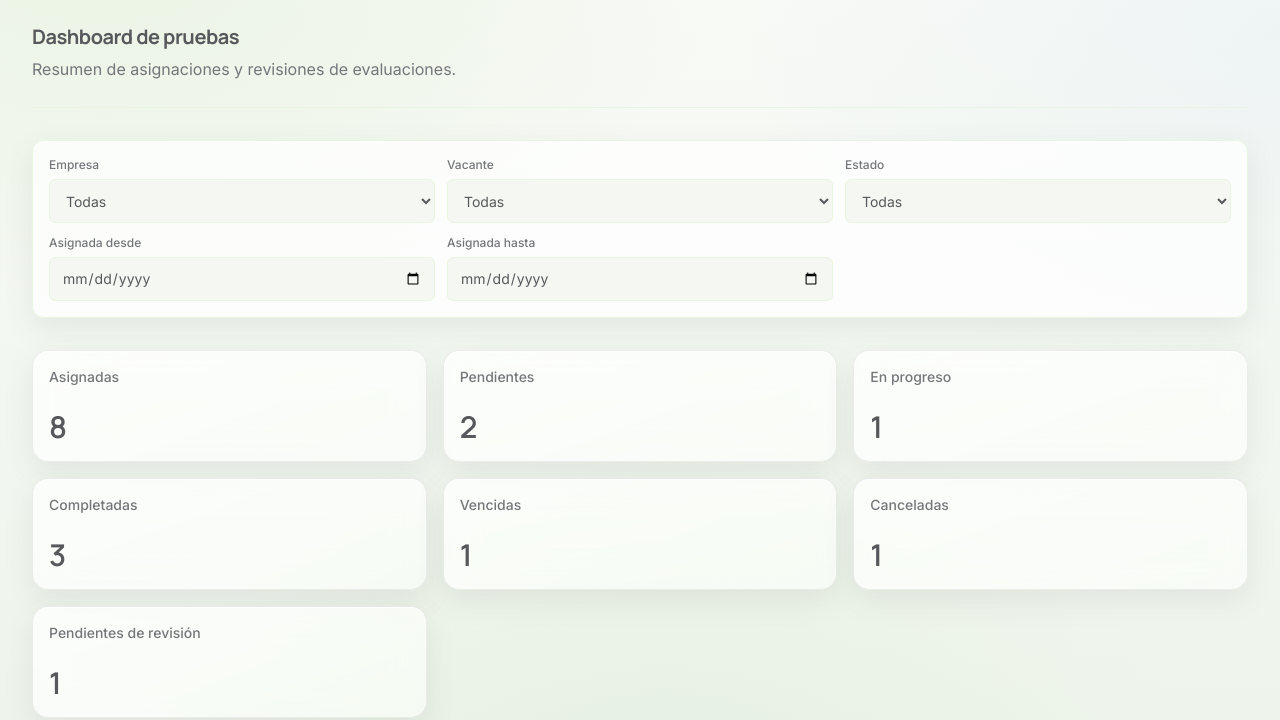
PruebasDashboard UI › shows filter-empty without replacing the page chrome
The image size is (1280, 720).
Expected: the dropdown labelled "Empresa" is shown, [49,179,435,223]
Select "Cancelada" in the dropdown labelled "Estado": (1038, 201) [845,179,1231,223]
(page scrolled)
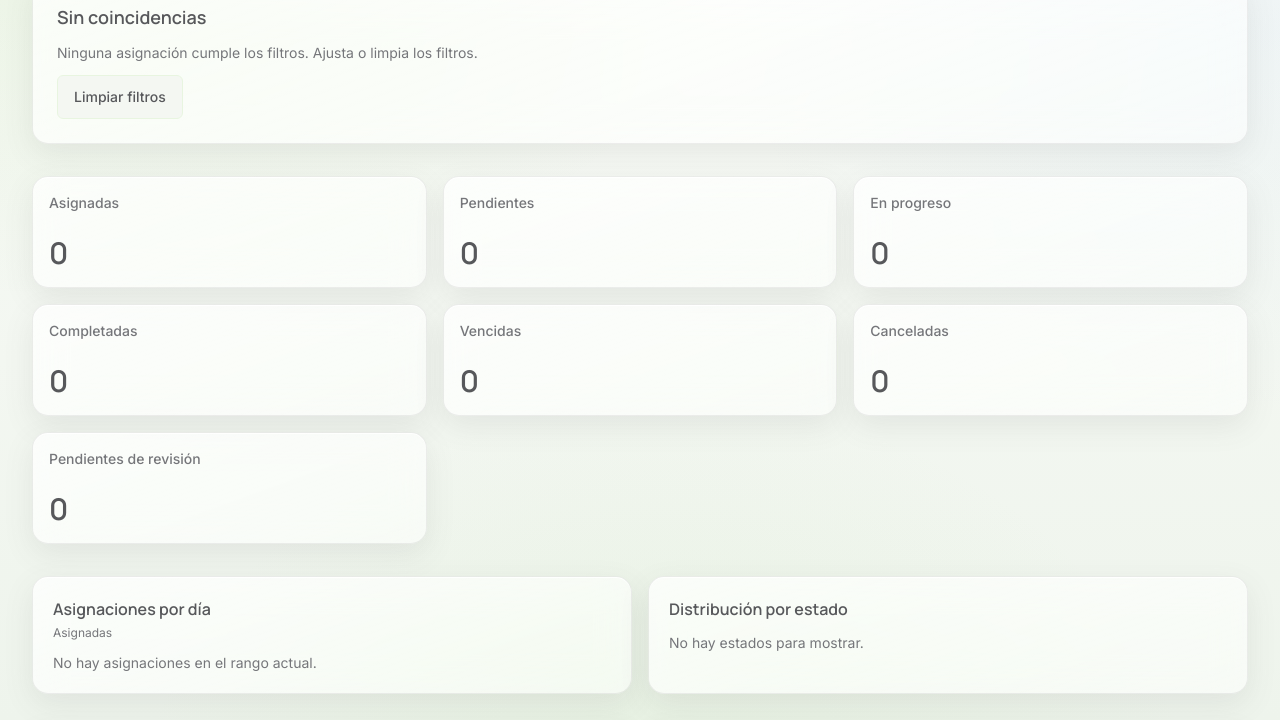
Expected: the list named "Métricas de asignaciones" is shown, [32,176,1248,544]
Now the heading "Sin coincidencias" is shown, box [57,3,206,31]
